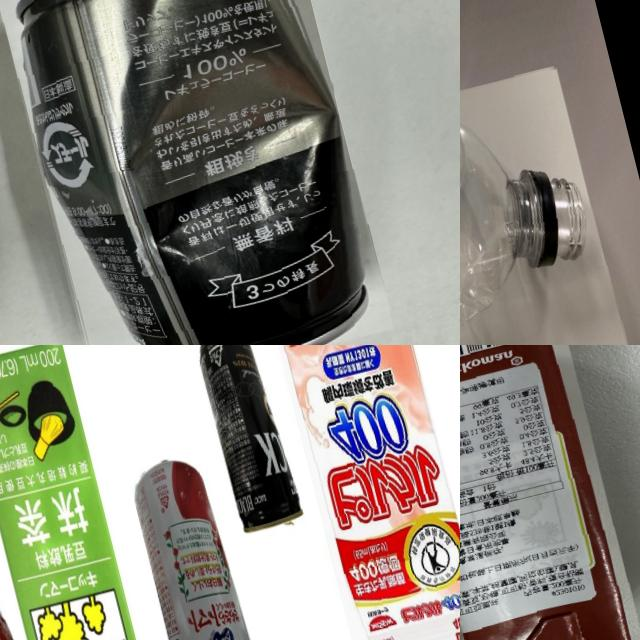Aluminium Foil: (264, 345, 460, 640), (460, 345, 640, 640), (0, 345, 171, 640)
Can: (0, 0, 392, 345), (122, 448, 267, 640), (189, 345, 308, 533)
Transparent Plastic Bottle: (460, 65, 627, 345)
